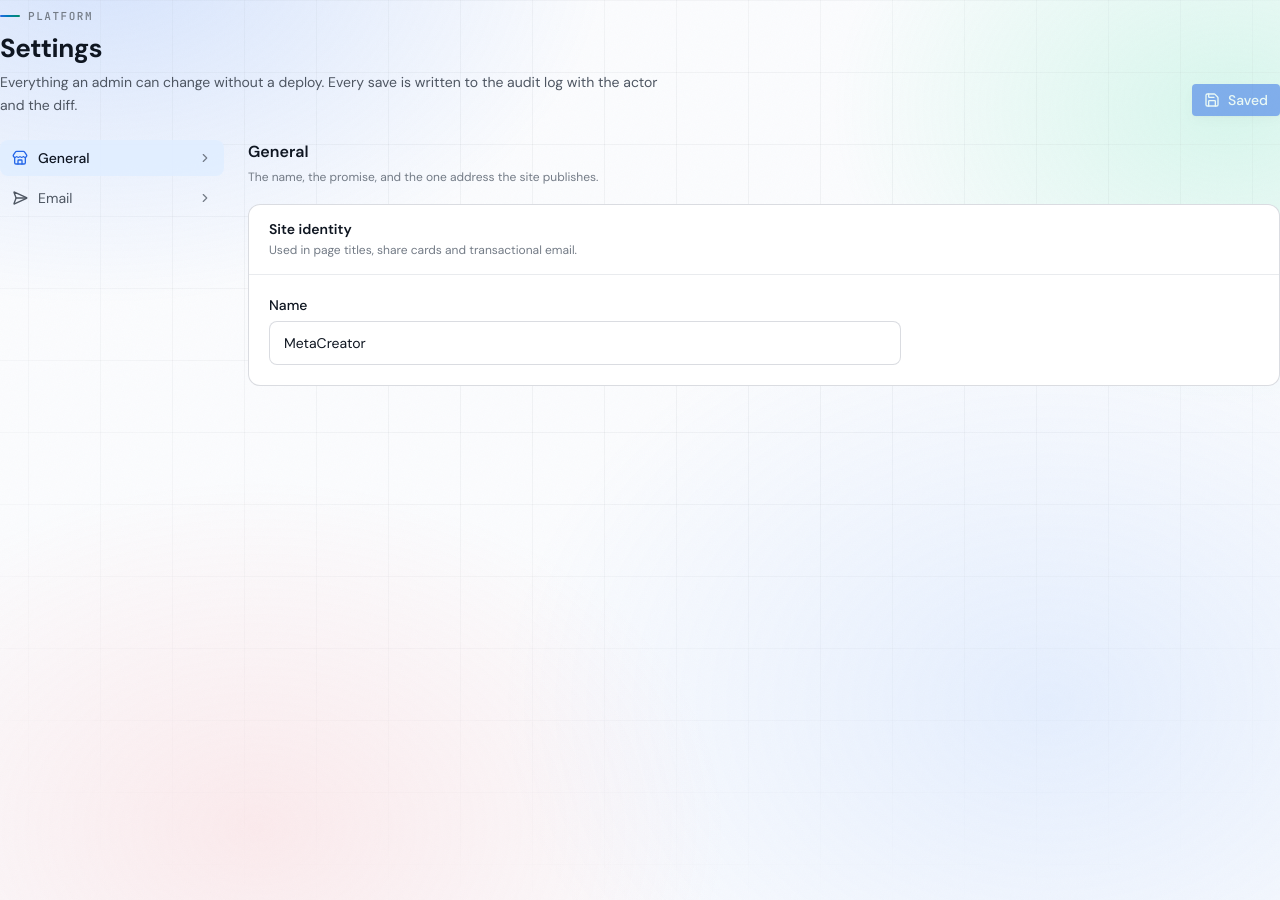
Test case: settings screen — Email › warns that a test uses the saved settings, not the unsaved ones
This screenshot has width=1280, height=900.
Click the button "Email" at point(112, 198), box [0,180,224,216]
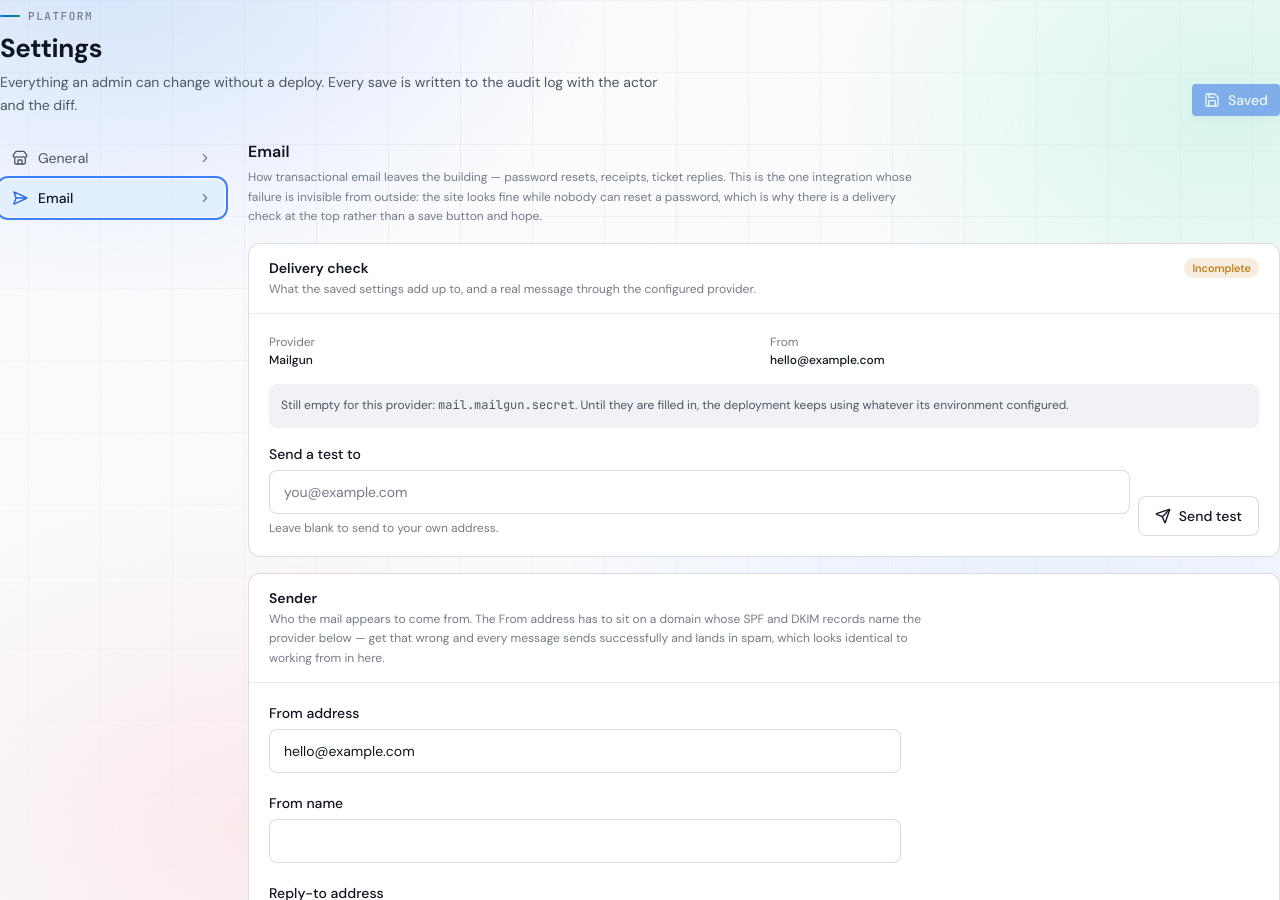
Type "MetaCreator" into the field labelled "From name" at point(585, 841), box [269,819,901,863]
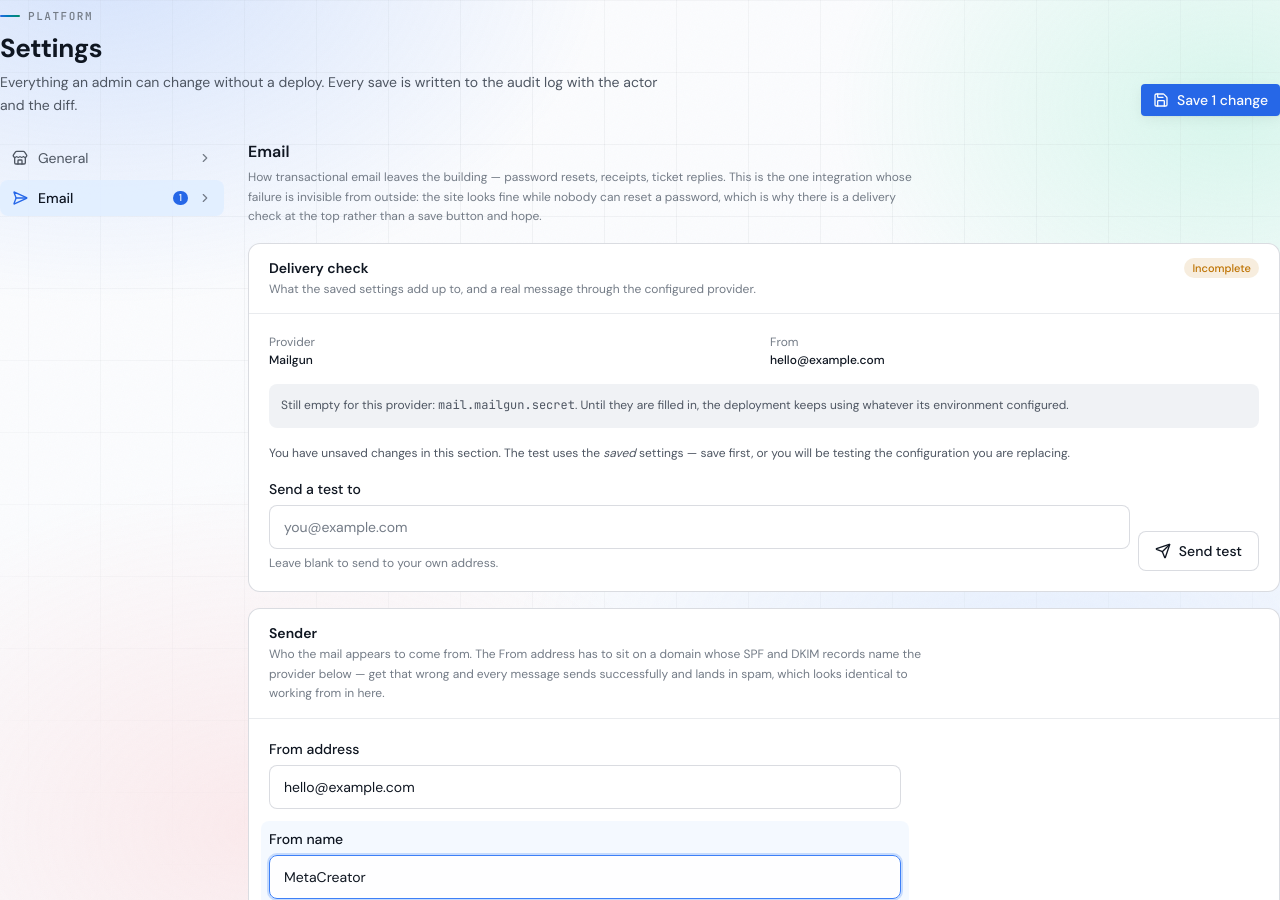
Expected: the text "The test uses the" is shown, [269,445,603,461]
